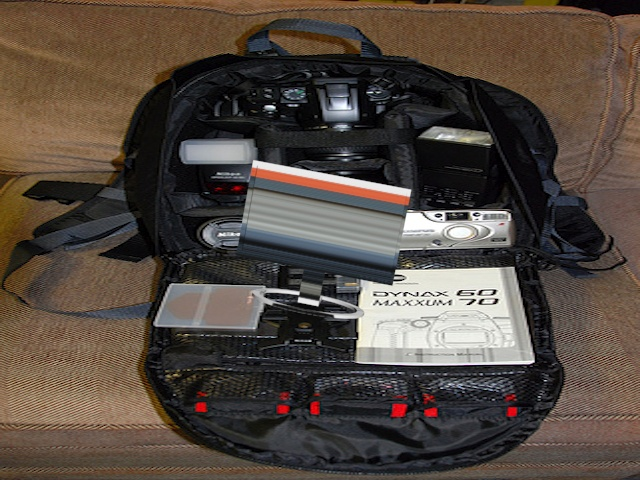monitor: (225, 160, 417, 320)
